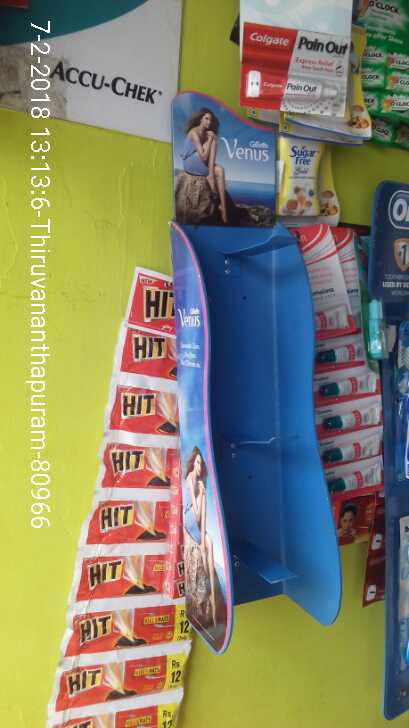reject: (188, 223, 306, 353)
